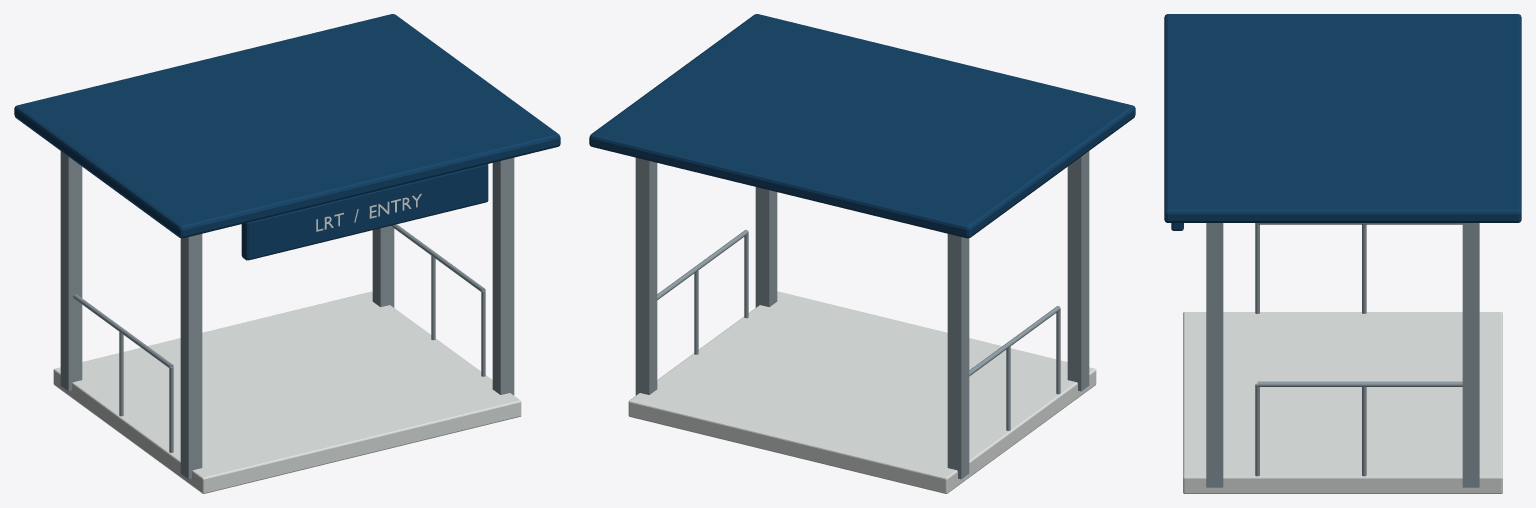
File: edited.glb
3 views of the same model, side by side, from view 1: azimuth 30°, elevation 25°; view 2: azimuth 150°, elevation 25°; view 3: azimuth 270°, elevation 25° (orthographic). The views are drawn at different scales.
Visible parts, largest first — view 1: CANOPY_Roof, BASE_Landing, SIGN_Fascia, COLUMN.001, COLUMN.003, COLUMN.002, COLUMN, RAIL_Top, RAIL_Top.001; view 2: CANOPY_Roof, BASE_Landing, COLUMN.002, COLUMN, COLUMN.001, COLUMN.003, RAIL_Top, RAIL_Top.001; view 3: CANOPY_Roof, BASE_Landing, COLUMN, COLUMN.003, RAIL_Top.001, RAIL_Post.003, RAIL_Post, RAIL_Post.001, RAIL_Post.004, RAIL_Top.
Boxes of the visible parts, left/top/right/bottom form: CANOPY_Roof: left=14, top=14, right=560, bottom=238; BASE_Landing: left=53, top=291, right=521, bottom=493; SIGN_Fascia: left=241, top=164, right=488, bottom=260; COLUMN.001: left=180, top=234, right=202, bottom=479; COLUMN.003: left=492, top=157, right=514, bottom=395; COLUMN.002: left=60, top=151, right=82, bottom=391; COLUMN: left=372, top=226, right=394, bottom=307; RAIL_Top: left=73, top=294, right=173, bottom=368; RAIL_Top.001: left=391, top=224, right=485, bottom=291; CANOPY_Roof: left=589, top=14, right=1135, bottom=238; BASE_Landing: left=628, top=291, right=1096, bottom=493; COLUMN.002: left=947, top=234, right=969, bottom=479; COLUMN: left=635, top=157, right=657, bottom=395; COLUMN.001: left=1067, top=151, right=1089, bottom=391; COLUMN.003: left=755, top=187, right=777, bottom=307; RAIL_Top: left=969, top=306, right=1060, bottom=376; RAIL_Top.001: left=657, top=230, right=748, bottom=299; CANOPY_Roof: left=1164, top=14, right=1521, bottom=222; BASE_Landing: left=1183, top=312, right=1502, bottom=493; COLUMN: left=1462, top=223, right=1479, bottom=487; COLUMN.003: left=1206, top=223, right=1223, bottom=487; RAIL_Top.001: left=1257, top=381, right=1462, bottom=386; RAIL_Post.003: left=1255, top=383, right=1259, bottom=476; RAIL_Post: left=1255, top=223, right=1259, bottom=313; RAIL_Post.001: left=1362, top=224, right=1366, bottom=313; RAIL_Post.004: left=1362, top=386, right=1366, bottom=476; RAIL_Top: left=1257, top=223, right=1462, bottom=224.
Bounding box in the file's own units: 4.4 × 3.1 × 3.35.
